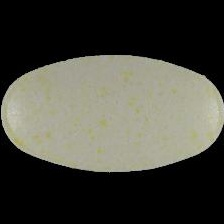62756-552: (0, 0, 224, 224)
